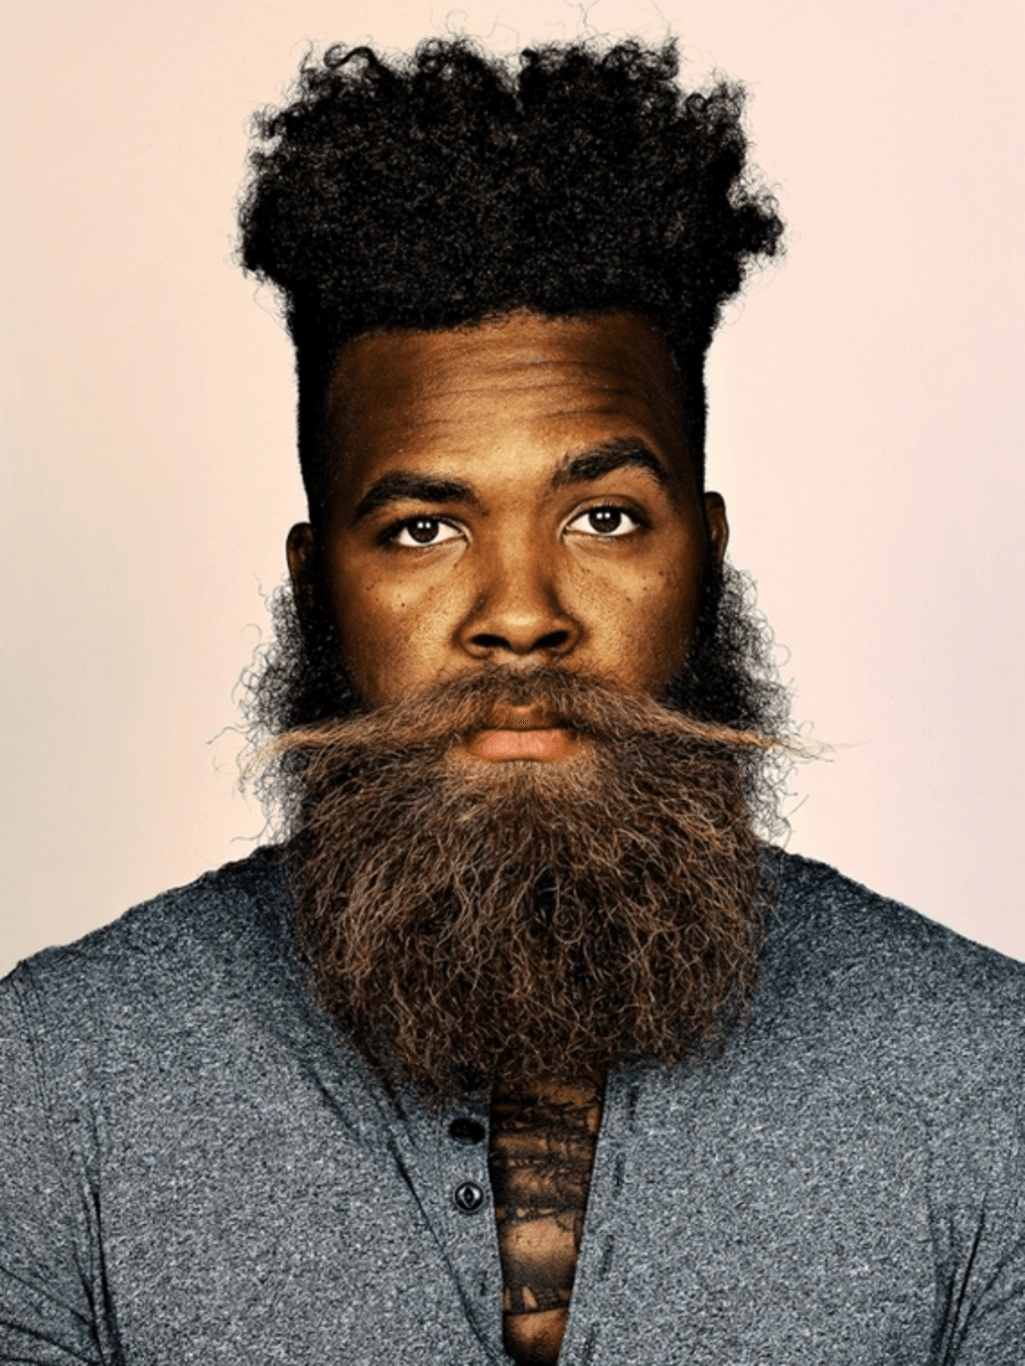mouth: (460, 702, 586, 762)
nose: (452, 603, 577, 657)
